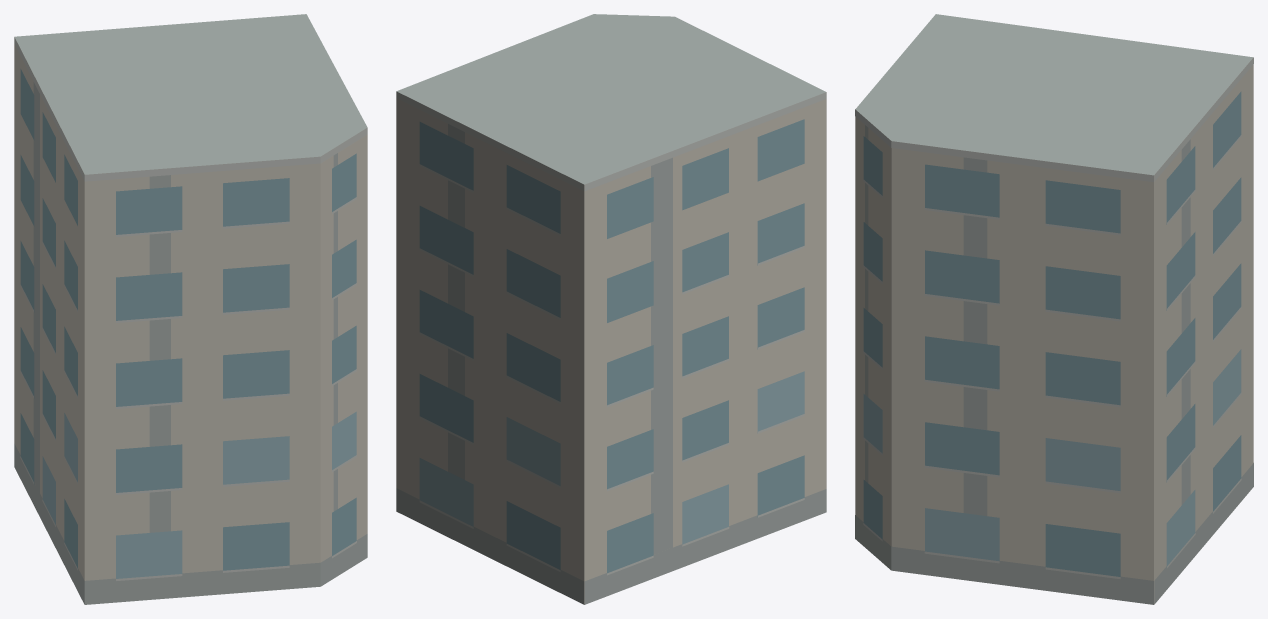
Rendered from survey-upis-32820559.glb.
The picture shows the model from 3 angles, left to right: view 1: azimuth 30°, elevation 25°; view 2: azimuth 150°, elevation 25°; view 3: azimuth 270°, elevation 25°; orthographic projection. The views are drawn at different scales.
Parts seen in each view (by area): view 1: survey-upis-32820559.tmp; view 2: survey-upis-32820559.tmp; view 3: survey-upis-32820559.tmp.
Part boxes in pixels (left/top/right/bottom): survey-upis-32820559.tmp: left=14, top=14, right=367, bottom=604; survey-upis-32820559.tmp: left=396, top=14, right=826, bottom=604; survey-upis-32820559.tmp: left=855, top=14, right=1253, bottom=604.
Bounding box in the file's own units: 12.26 × 15.2 × 12.79.
